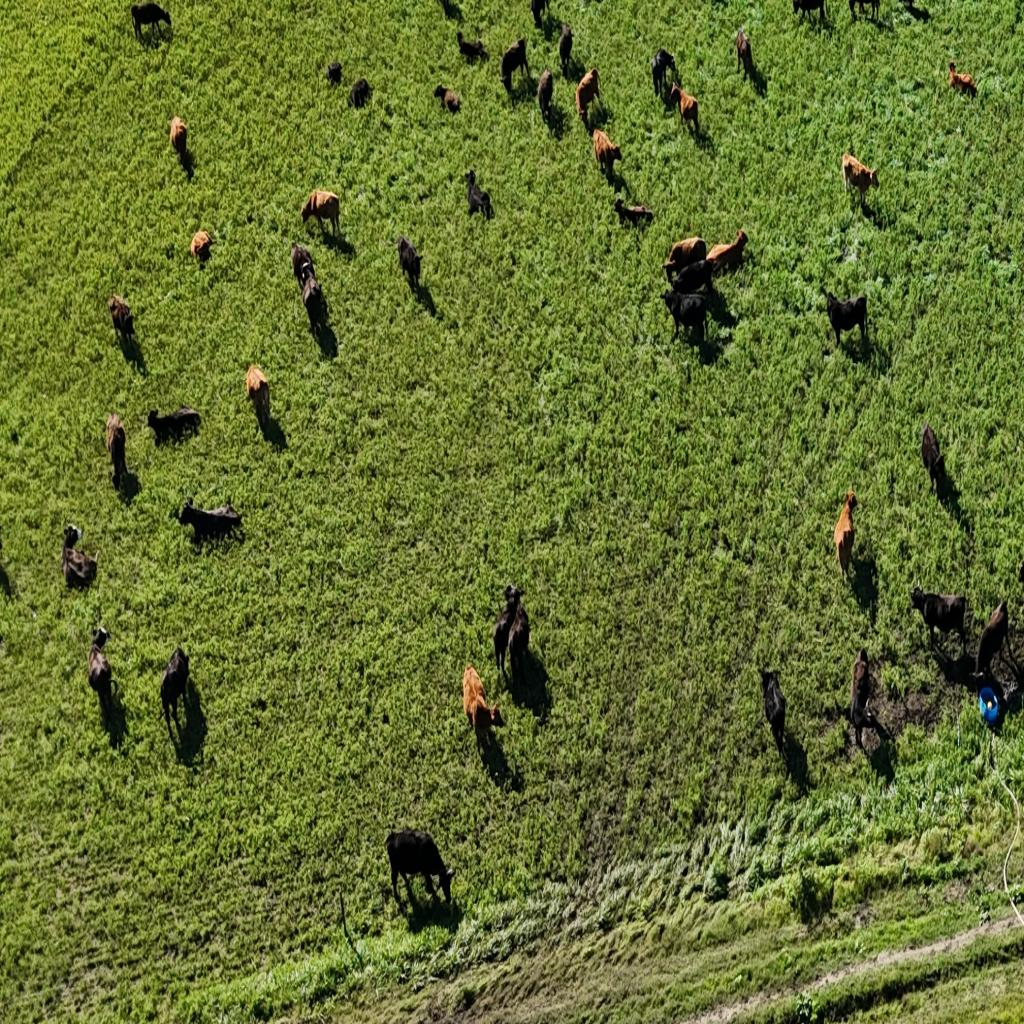cow: (384, 826, 457, 909), (846, 647, 897, 749), (969, 599, 1011, 693), (909, 584, 966, 652), (463, 662, 506, 748), (178, 496, 242, 544), (918, 632, 967, 690), (60, 521, 99, 592), (86, 625, 114, 723), (159, 646, 190, 734), (826, 291, 868, 353), (488, 580, 516, 672), (662, 287, 708, 342), (759, 666, 787, 756), (507, 591, 531, 688), (147, 407, 200, 449), (842, 154, 880, 210), (834, 487, 857, 579), (662, 234, 706, 282), (920, 421, 948, 496), (706, 228, 748, 275), (669, 258, 716, 298), (302, 189, 340, 235), (667, 81, 699, 134), (131, 2, 171, 44), (255, 402, 289, 451), (244, 364, 270, 426), (106, 412, 127, 488), (499, 38, 527, 93), (397, 233, 423, 292), (575, 67, 601, 126), (108, 293, 136, 346), (592, 126, 620, 178), (464, 170, 492, 222), (650, 48, 676, 99), (302, 273, 324, 333), (616, 198, 654, 232), (290, 241, 316, 289), (168, 113, 190, 168), (948, 60, 979, 98), (113, 465, 142, 505), (457, 28, 487, 63), (188, 228, 214, 266), (537, 65, 554, 121), (735, 26, 754, 76), (557, 19, 573, 76), (434, 82, 462, 113), (791, 1, 825, 26), (848, 0, 880, 22), (349, 78, 371, 109), (530, 0, 548, 28), (326, 59, 342, 85)
